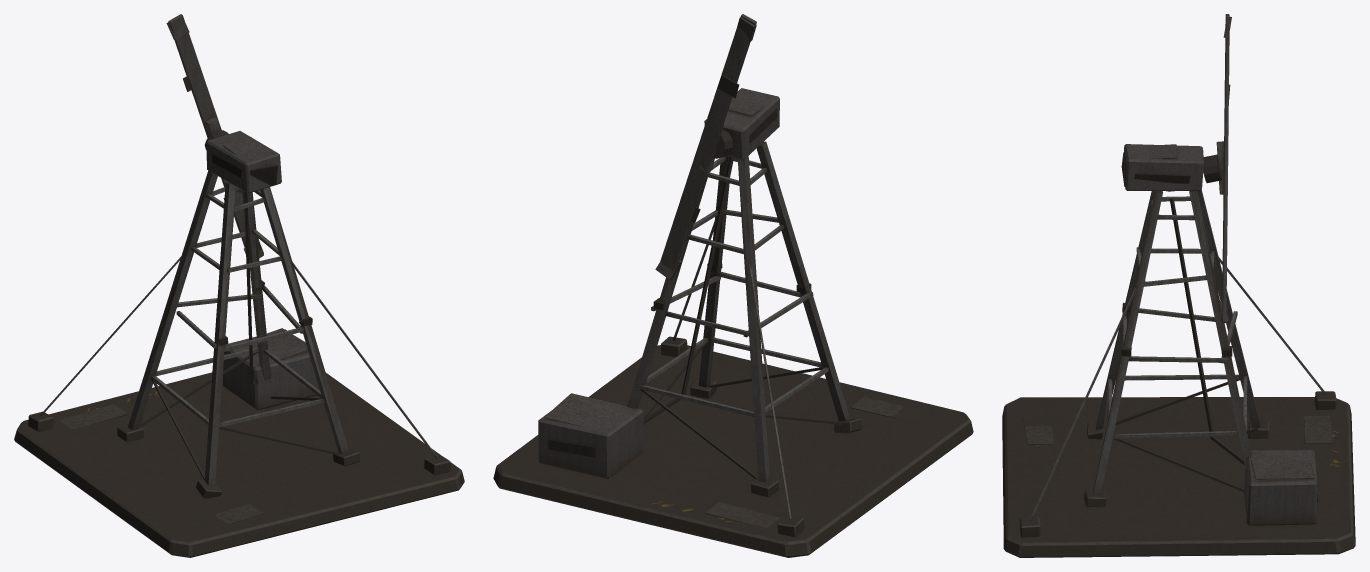
The model's file is chs_windmill_wreck.fbx.
3 views of the same model, side by side, from view 1: azimuth 30°, elevation 25°; view 2: azimuth 150°, elevation 25°; view 3: azimuth 270°, elevation 25° (orthographic). The views are drawn at different scales.
Parts seen in each view (by area): view 1: base_bar, rotor_bar; view 2: base_bar, rotor_bar; view 3: base_bar, rotor_bar.
Part boxes in pixels (x1=…): base_bar: x1=14, y1=131, x2=464, y2=557; rotor_bar: x1=166, y1=14, x2=263, y2=258; base_bar: x1=493, y1=88, x2=973, y2=557; rotor_bar: x1=655, y1=14, x2=756, y2=279; base_bar: x1=1002, y1=144, x2=1355, y2=557; rotor_bar: x1=1203, y1=14, x2=1231, y2=322.
Bounding box in the file's own units: 1569 × 2405 × 1568.
Materials: 2 (2 with a texture image).
